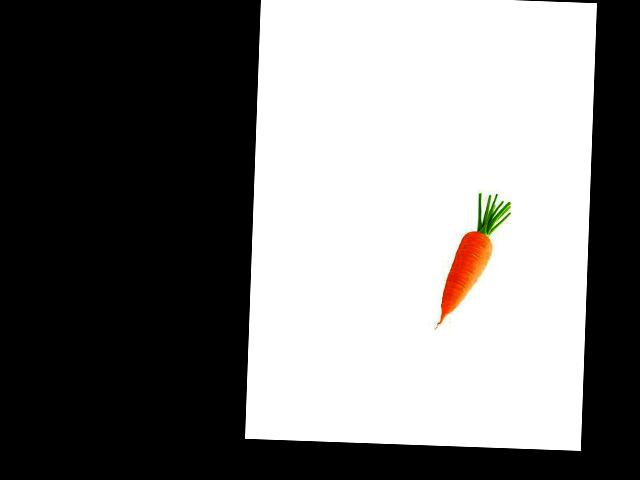carrot: (436, 227, 495, 320)
